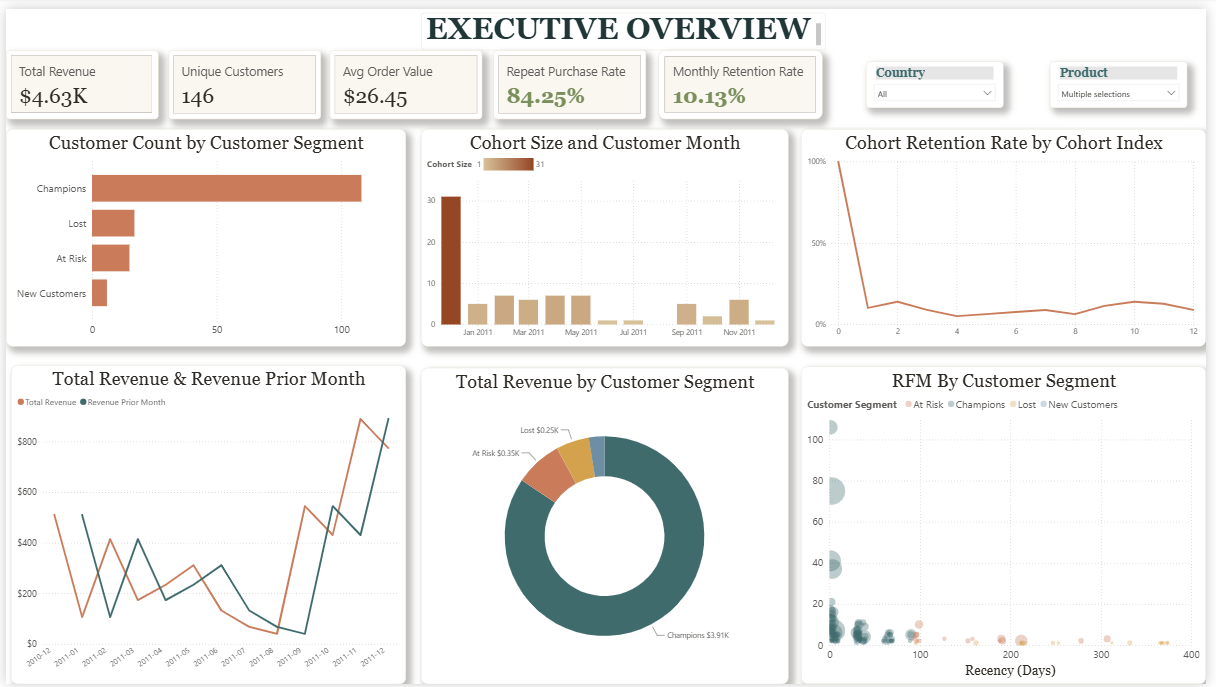

Layout of this report page (visuals, bound fields, positions):
{"tool":"powerbi","page":{"name":"Executive Summary","canvas":[1920,1080],"ordinal":0},"visuals":[{"type":"shape","title":"bg_card","box":[40,40,1840,1000],"z":0},{"type":"shape","box":[278,66,210,120],"z":0,"group":"g1"},{"type":"shape","box":[513.2,66,210,120],"z":0,"group":"g2"},{"type":"shape","box":[748.5,66,210,120],"z":0,"group":"g3"},{"type":"shape","box":[983.8,66,210,120],"z":0,"group":"g4"},{"type":"shape","box":[1219,66,210,120],"z":0,"group":"g5"},{"type":"shape","box":[40,40,220,982.5],"z":1000},{"type":"textbox","box":[528.6,67.4,160,48.6],"z":1000,"group":"g2"},{"type":"textbox","box":[769.9,73.3,157.3,42.7],"z":1000,"group":"g3"},{"type":"textbox","box":[1002.2,73.3,165.5,42.7],"z":1000,"group":"g4"},{"type":"textbox","box":[295.1,76,115.7,40],"z":1000,"group":"g1"},{"type":"textbox","box":[1236,76,193,40],"z":1000,"group":"g5"},{"type":"cardVisual","fields":{"Data":["ecommerce_cleaned.Total Revenue"]},"box":[315.4,88.5,109,54],"z":2000,"group":"g1"},{"type":"cardVisual","fields":{"Data":["ecommerce_cleaned.Repeat Purchase Rate"]},"box":[1021.2,88.5,109,54],"z":2000,"group":"g4"},{"type":"cardVisual","fields":{"Data":["ecommerce_cleaned.Monthly Retention Rate"]},"box":[1256.4,88.5,109,54],"z":2000,"group":"g5"},{"type":"cardVisual","fields":{"Data":["ecommerce_cleaned.Unique Customers"]},"box":[582.8,90.3,64.3,55.7],"z":2000,"group":"g2"},{"type":"cardVisual","fields":{"Data":["ecommerce_cleaned.Avg Order Value"]},"box":[791.7,94.2,120.9,48.2],"z":2000,"group":"g3"},{"type":"actionButton","title":"overview button","box":[52.5,140,195,40],"z":2000},{"type":"textbox","box":[57.8,92.2,58.9,33.3],"z":3000},{"type":"cardVisual","fields":{"Data":["ecommerce_cleaned.Total Revenue MoM %"]},"box":[286.3,143,78.4,34.2],"z":3000,"group":"g1"},{"type":"cardVisual","fields":{"Data":["ecommerce_cleaned.Unique Customers MoM %"]},"box":[521.5,143,78.4,34.2],"z":3000,"group":"g2"},{"type":"cardVisual","fields":{"Data":["ecommerce_cleaned.Avg Order Value MoM %"]},"box":[756.8,143,78.4,34.2],"z":3000,"group":"g3"},{"type":"cardVisual","fields":{"Data":["ecommerce_cleaned.Repeat Purchase Rate MoM %"]},"box":[992,143,78,34],"z":3000,"group":"g4"},{"type":"cardVisual","fields":{"Data":["ecommerce_cleaned.Monthly Retention Rate MoM %"]},"box":[1227.3,143,78.4,34.2],"z":3000,"group":"g5"},{"type":"cardVisual","fields":{"Data":["ecommerce_cleaned.Total Revenue PM"]},"box":[396.3,143,78.4,34.2],"z":4000,"group":"g1"},{"type":"cardVisual","fields":{"Data":["ecommerce_cleaned.Repeat Purchase Rate PM"]},"box":[1102.1,143,78.4,34.2],"z":4000,"group":"g4"},{"type":"cardVisual","fields":{"Data":["ecommerce_cleaned.Monthly Retention Rate PM"]},"box":[1337.3,143,78.4,34.2],"z":4000,"group":"g5"},{"type":"cardVisual","fields":{"Data":["ecommerce_cleaned.Unique Customers PM"]},"box":[634.8,146,59.1,31.8],"z":4000,"group":"g2"},{"type":"cardVisual","fields":{"Data":["ecommerce_cleaned.Avg Order Value PM"]},"box":[864.4,146,84.5,30.9],"z":4000,"group":"g3"},{"type":"actionButton","box":[52.5,185.8,195,40],"z":4000},{"type":"textbox","box":[410.9,132.5,55.6,27.8],"z":5000,"group":"g1"},{"type":"textbox","box":[646.1,132.5,55.6,27.8],"z":5000,"group":"g2"},{"type":"textbox","box":[881.4,132.5,55.6,27.8],"z":5000,"group":"g3"},{"type":"textbox","box":[1116.7,132.5,55.6,27.8],"z":5000,"group":"g4"},{"type":"textbox","box":[1351.9,132.5,55.6,27.8],"z":5000,"group":"g5"},{"type":"textbox","box":[80,185.8,174,40],"z":5000},{"type":"actionButton","box":[52.5,231.7,195,40],"z":6000},{"type":"actionButton","box":[57.3,353.6,190.9,40],"z":7000},{"type":"textbox","box":[94.4,353.3,80,40],"z":8000},{"type":"textbox","box":[82.5,231.7,132.5,40],"z":9000},{"type":"textbox","box":[82.5,140,143.3,40],"z":10000},{"type":"shape","box":[53.6,271.8,194.5,28.2],"z":11000},{"type":"group","id":"g1","title":"KPI 1","box":[278,66,210,120],"z":12000},{"type":"group","id":"g2","title":"KPI 2","box":[513.2,66,210,120],"z":13000},{"type":"group","id":"g3","title":"KPI 3","box":[748.5,66,210,120],"z":14000},{"type":"group","id":"g4","title":"KPI 4","box":[983.8,66,210,120],"z":15000},{"type":"group","id":"g5","title":"KPI 4","box":[1219,66,210,120],"z":16000},{"type":"lineClusteredColumnComboChart","title":"Revenue Concentration By Segments","fields":{"Category":["ecommerce_cleaned.Customer Segment (Column)"],"Y":["ecommerce_cleaned.Total Revenue"],"Y2":["ecommerce_cleaned.Cumulative Revenue % (By Bucket)"]},"box":[288,610,624,384],"z":17000},{"type":"donutChart","title":"Total Revenue by Customer Segment ","fields":{"Y":["ecommerce_cleaned.Total Revenue"],"Category":["ecommerce_cleaned.Customer Segment (Column)"]},"box":[938,210,484,382],"z":18000},{"type":"lineChart","title":"Total Revenue & Revenue Prior Month","fields":{"Y":["ecommerce_cleaned.Total Revenue","ecommerce_cleaned.Revenue Prior Month"],"Category":["Calendar.Year-Month"]},"box":[286,206,626,386],"z":19000},{"type":"barChart","title":"Customer Count by Customer Segment","fields":{"Y":["Count(ecommerce_cleaned.CustomerID)"],"Category":["ecommerce_cleaned.Customer Segment (Column)"]},"box":[938,610,484,384],"z":20000},{"type":"slicer","fields":{"Values":["ecommerce_cleaned.Country"]},"box":[1444.3,88.6,187.1,74.3],"z":21000},{"type":"slicer","fields":{"Values":["ecommerce_cleaned.Description"]},"box":[1655.7,88.6,197.1,74.3],"z":22000},{"type":"gauge","fields":{"Y":["ecommerce_cleaned.Monthly Retention Rate"]},"box":[1444,610,397.5,385],"z":23000},{"type":"ribbonChart","title":"Segment Revenue Rank Over Time","fields":{"Category":["ecommerce_cleaned.Customer Segment (Column)"],"Y":["ecommerce_cleaned.Total Revenue","CountNonNull(Calendar.Month Name)"]},"box":[1444,212,397.5,380],"z":24000}]}

Visuals, with their boxes in screenshot pixels (x1, y1, x2, y2), scaled from the page's 1920x1080 canvas onto the 1216x687 screenshot:
"bg_card" shape: pyautogui.locateOnScreen(25, 25, 1191, 662)
shape: pyautogui.locateOnScreen(176, 42, 309, 118)
shape: pyautogui.locateOnScreen(325, 42, 458, 118)
shape: pyautogui.locateOnScreen(474, 42, 607, 118)
shape: pyautogui.locateOnScreen(623, 42, 756, 118)
shape: pyautogui.locateOnScreen(772, 42, 905, 118)
shape: pyautogui.locateOnScreen(25, 25, 165, 650)
textbox: pyautogui.locateOnScreen(335, 43, 436, 74)
textbox: pyautogui.locateOnScreen(488, 47, 587, 74)
textbox: pyautogui.locateOnScreen(635, 47, 740, 74)
textbox: pyautogui.locateOnScreen(187, 48, 260, 74)
textbox: pyautogui.locateOnScreen(783, 48, 905, 74)
cardVisual - ecommerce_cleaned.Total Revenue: pyautogui.locateOnScreen(200, 56, 269, 91)
cardVisual - ecommerce_cleaned.Repeat Purchase Rate: pyautogui.locateOnScreen(647, 56, 716, 91)
cardVisual - ecommerce_cleaned.Monthly Retention Rate: pyautogui.locateOnScreen(796, 56, 865, 91)
cardVisual - ecommerce_cleaned.Unique Customers: pyautogui.locateOnScreen(369, 57, 410, 93)
cardVisual - ecommerce_cleaned.Avg Order Value: pyautogui.locateOnScreen(501, 60, 578, 91)
"overview button" actionButton: pyautogui.locateOnScreen(33, 89, 157, 114)
textbox: pyautogui.locateOnScreen(37, 59, 74, 80)
cardVisual - ecommerce_cleaned.Total Revenue MoM %: pyautogui.locateOnScreen(181, 91, 231, 113)
cardVisual - ecommerce_cleaned.Unique Customers MoM %: pyautogui.locateOnScreen(330, 91, 380, 113)
cardVisual - ecommerce_cleaned.Avg Order Value MoM %: pyautogui.locateOnScreen(479, 91, 529, 113)
cardVisual - ecommerce_cleaned.Repeat Purchase Rate MoM %: pyautogui.locateOnScreen(628, 91, 678, 113)
cardVisual - ecommerce_cleaned.Monthly Retention Rate MoM %: pyautogui.locateOnScreen(777, 91, 827, 113)
cardVisual - ecommerce_cleaned.Total Revenue PM: pyautogui.locateOnScreen(251, 91, 301, 113)
cardVisual - ecommerce_cleaned.Repeat Purchase Rate PM: pyautogui.locateOnScreen(698, 91, 748, 113)
cardVisual - ecommerce_cleaned.Monthly Retention Rate PM: pyautogui.locateOnScreen(847, 91, 897, 113)
cardVisual - ecommerce_cleaned.Unique Customers PM: pyautogui.locateOnScreen(402, 93, 439, 113)
cardVisual - ecommerce_cleaned.Avg Order Value PM: pyautogui.locateOnScreen(547, 93, 601, 113)
actionButton: pyautogui.locateOnScreen(33, 118, 157, 144)
textbox: pyautogui.locateOnScreen(260, 84, 295, 102)
textbox: pyautogui.locateOnScreen(409, 84, 444, 102)
textbox: pyautogui.locateOnScreen(558, 84, 593, 102)
textbox: pyautogui.locateOnScreen(707, 84, 742, 102)
textbox: pyautogui.locateOnScreen(856, 84, 891, 102)
textbox: pyautogui.locateOnScreen(51, 118, 161, 144)
actionButton: pyautogui.locateOnScreen(33, 147, 157, 173)
actionButton: pyautogui.locateOnScreen(36, 225, 157, 250)
textbox: pyautogui.locateOnScreen(60, 225, 110, 250)
textbox: pyautogui.locateOnScreen(52, 147, 136, 173)
textbox: pyautogui.locateOnScreen(52, 89, 143, 114)
shape: pyautogui.locateOnScreen(34, 173, 157, 191)
"KPI 1" group: pyautogui.locateOnScreen(176, 42, 309, 118)
"KPI 2" group: pyautogui.locateOnScreen(325, 42, 458, 118)
"KPI 3" group: pyautogui.locateOnScreen(474, 42, 607, 118)
"KPI 4" group: pyautogui.locateOnScreen(623, 42, 756, 118)
"KPI 4" group: pyautogui.locateOnScreen(772, 42, 905, 118)
"Revenue Concentration By Segments" lineClusteredColumnComboChart: pyautogui.locateOnScreen(182, 388, 578, 632)
"Total Revenue by Customer Segment " donutChart: pyautogui.locateOnScreen(594, 134, 901, 377)
"Total Revenue & Revenue Prior Month" lineChart: pyautogui.locateOnScreen(181, 131, 578, 377)
"Customer Count by Customer Segment" barChart: pyautogui.locateOnScreen(594, 388, 901, 632)
slicer - ecommerce_cleaned.Country: pyautogui.locateOnScreen(915, 56, 1033, 104)
slicer - ecommerce_cleaned.Description: pyautogui.locateOnScreen(1049, 56, 1173, 104)
gauge - ecommerce_cleaned.Monthly Retention Rate: pyautogui.locateOnScreen(915, 388, 1166, 633)
"Segment Revenue Rank Over Time" ribbonChart: pyautogui.locateOnScreen(915, 135, 1166, 377)
